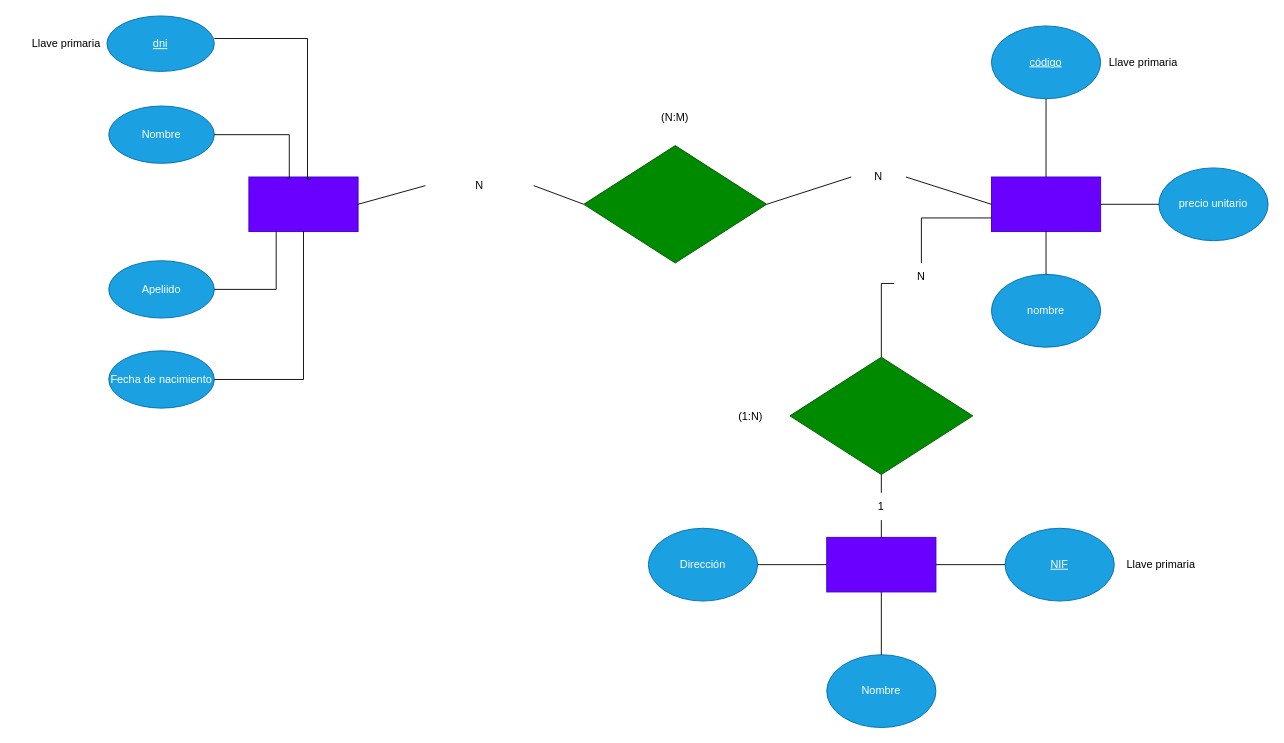
Image size: 1284x743. Some labels were removed from this diagram. The shapes that lost their labels are listed below. From the top down, each one's box as (x1, y1, x2, y2) in pixels, then its label:
(248, 176, 358, 232): Cliente
(583, 145, 767, 263): Compra
(991, 176, 1101, 232): Producto
(789, 356, 973, 475): Suministra
(826, 536, 936, 592): Proveedor
